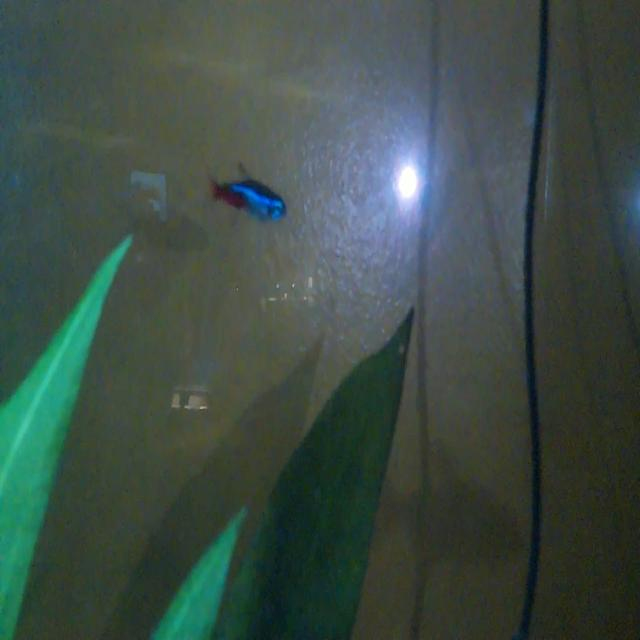fish: (213, 156, 291, 230)
